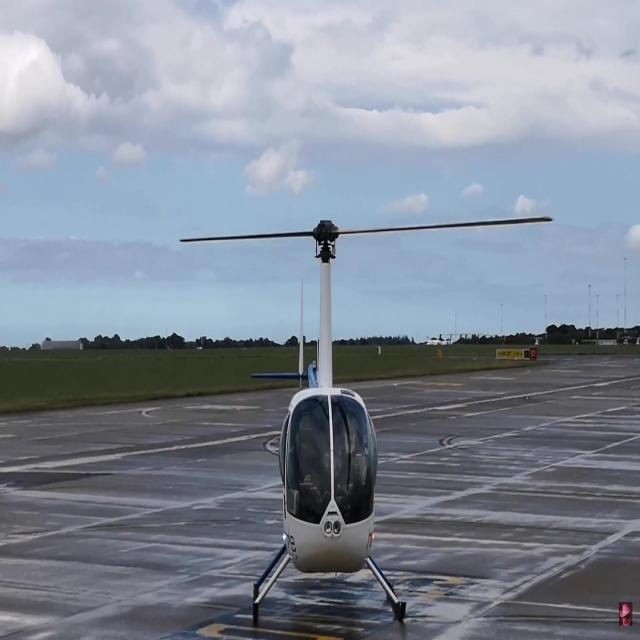CIV_HELO: (252, 218, 408, 628)
